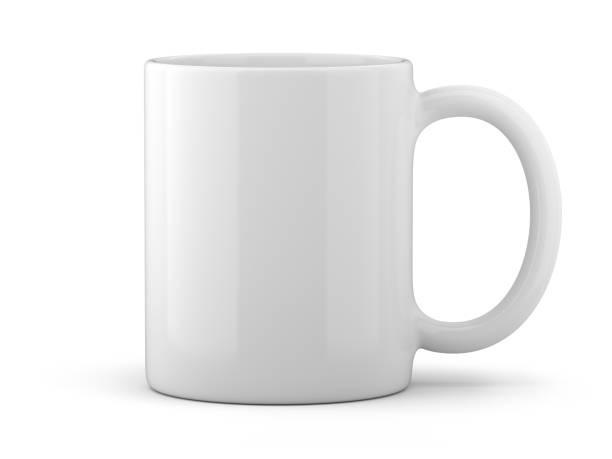Mug: (92, 30, 578, 421)
